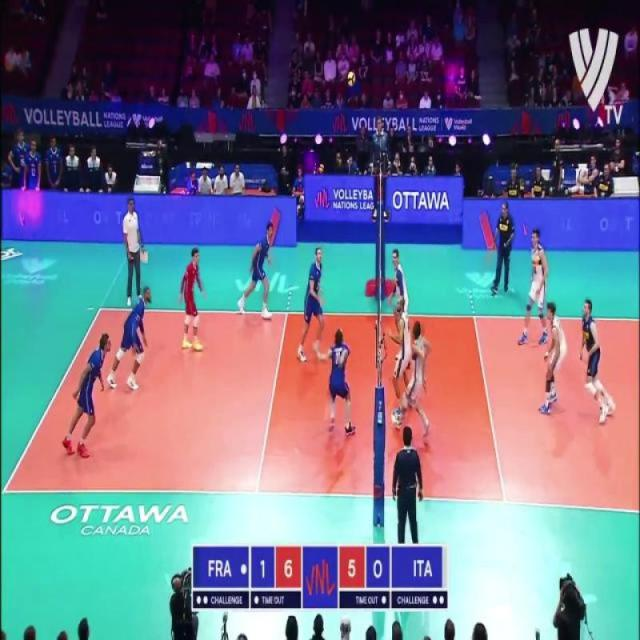volleyball: (345, 69, 357, 88)
